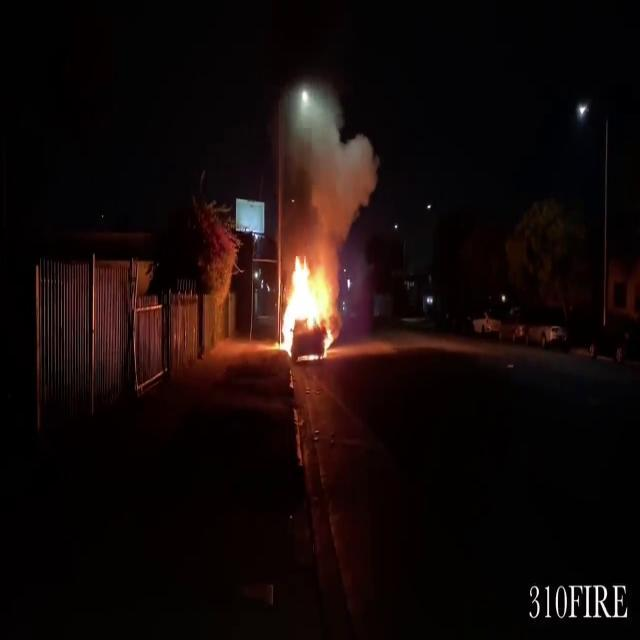Fire: (276, 249, 340, 359)
Smoke: (284, 94, 380, 252)
